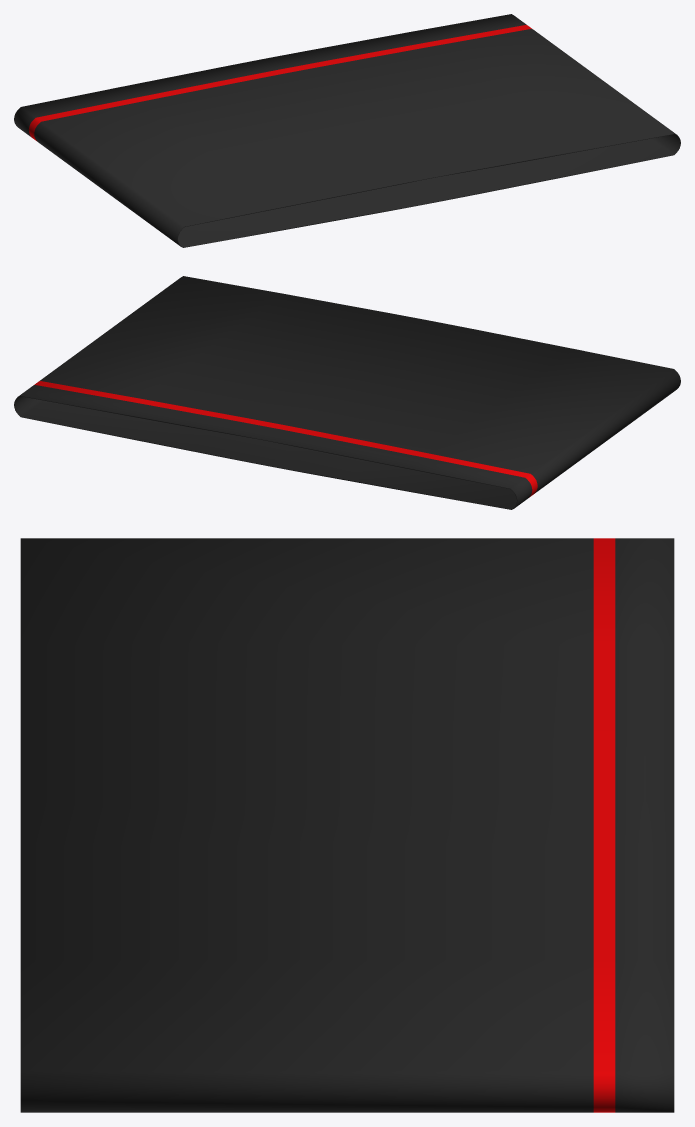
Rendered from millRunningBelt.glb.
3 views of the same model, one above another, from view 1: azimuth 30°, elevation 25°; view 2: azimuth 150°, elevation 25°; view 3: azimuth 270°, elevation 25° (orthographic). The views are drawn at different scales.
Parts seen in each view (by area): view 1: runningBelt; view 2: runningBelt; view 3: runningBelt.
Part boxes in pixels (bbox=[...]): runningBelt: bbox=[14, 14, 680, 247]; runningBelt: bbox=[14, 276, 680, 509]; runningBelt: bbox=[20, 538, 674, 1112].
Bounding box in the file's own units: 3.74 × 0.3416 × 2.1.
